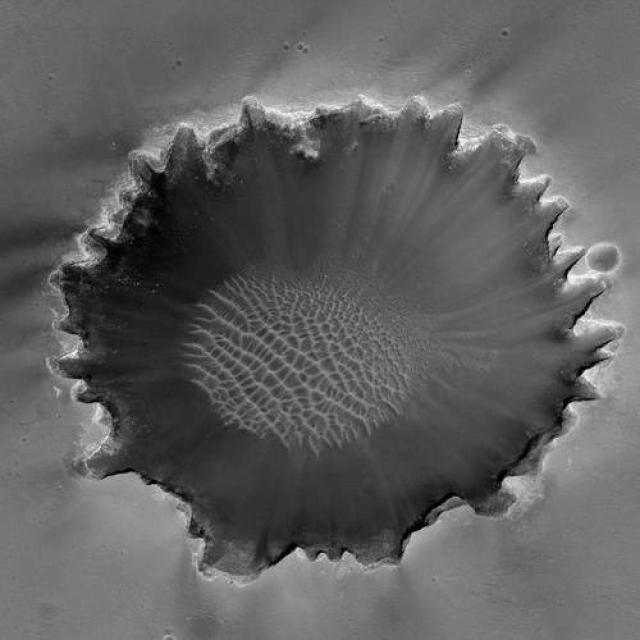crater: (29, 72, 630, 620)
